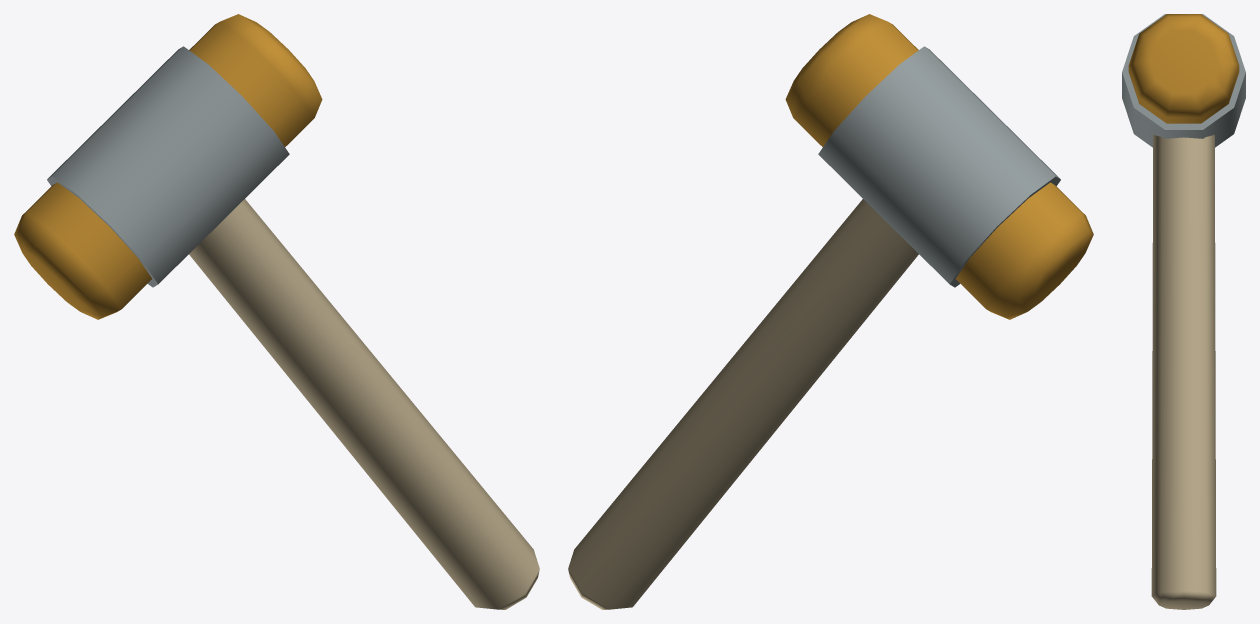
The model's file is item_hammer.fbx.
3 views of the same model, side by side, from view 1: azimuth 30°, elevation 25°; view 2: azimuth 150°, elevation 25°; view 3: azimuth 270°, elevation 25° (orthographic). The views are drawn at different scales.
Visible parts, largest first — view 1: item_hammer; view 2: item_hammer; view 3: item_hammer.
Boxes of the visible parts, box(x1,y1,x2,y2) form: item_hammer: box(14, 14, 539, 609); item_hammer: box(568, 14, 1093, 609); item_hammer: box(1122, 14, 1245, 609).
Size of the model in its own units: 1.8 by 2.2 by 0.4919.
